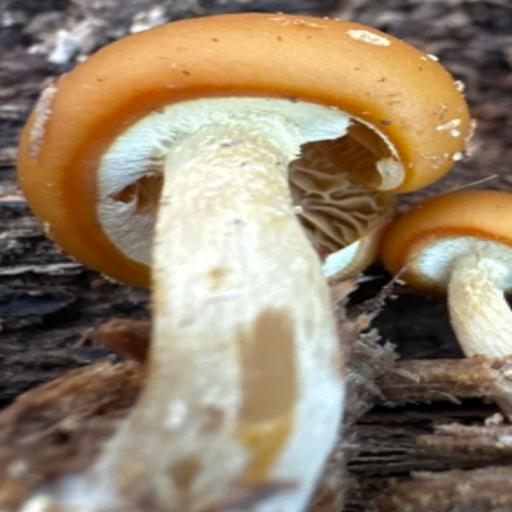mushroom: (24, 8, 512, 364)
